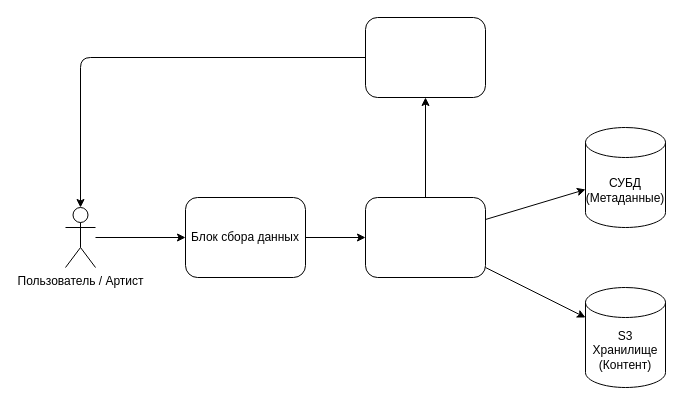
Image size: 683x405. Some labels were removed from this diagram. Here are the shapes that lost their labels. From the top down, the box of each, then its label:
(364, 16, 486, 98): Блок выдачи
(364, 196, 486, 278): Блок обработки
